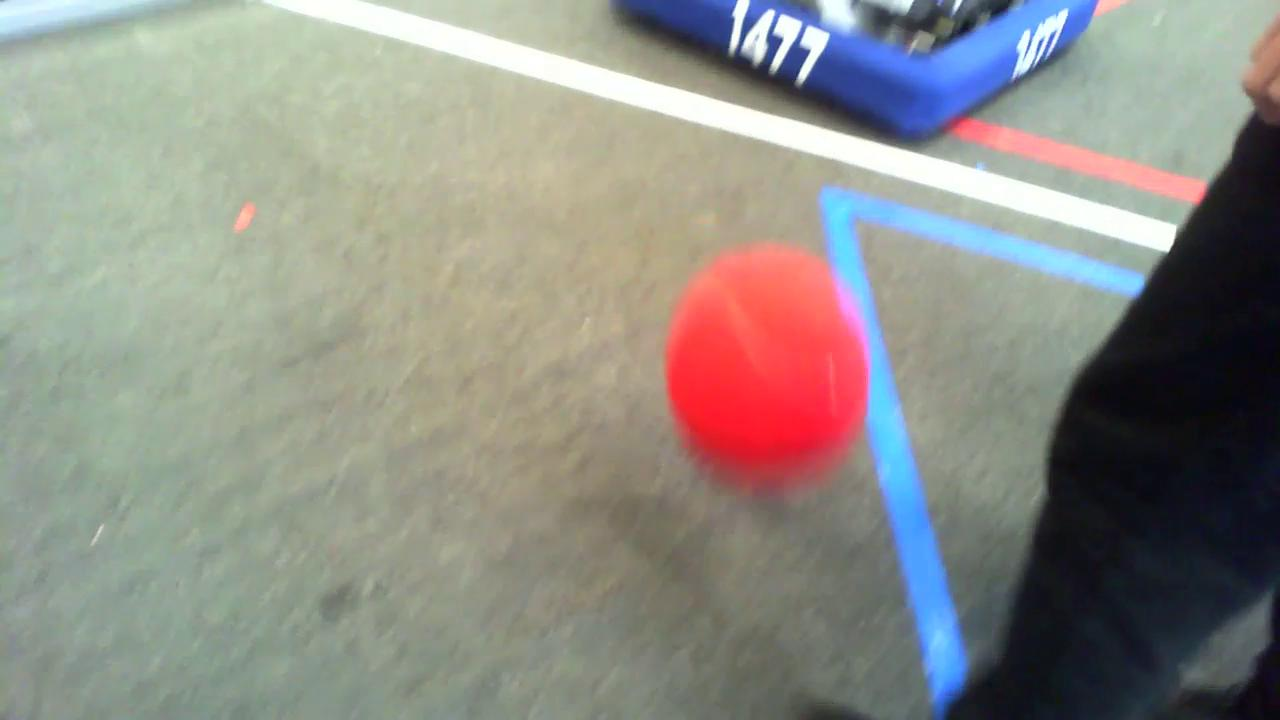Red_Ball: (653, 235, 880, 501)
